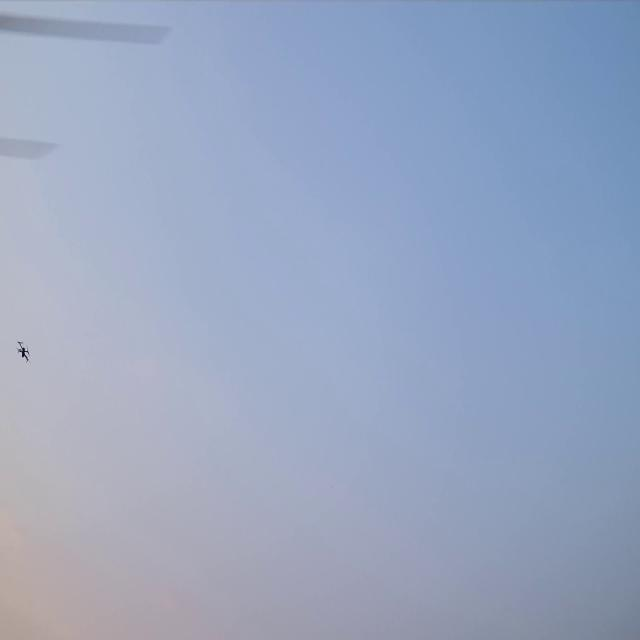UAV: (18, 342, 28, 361)
